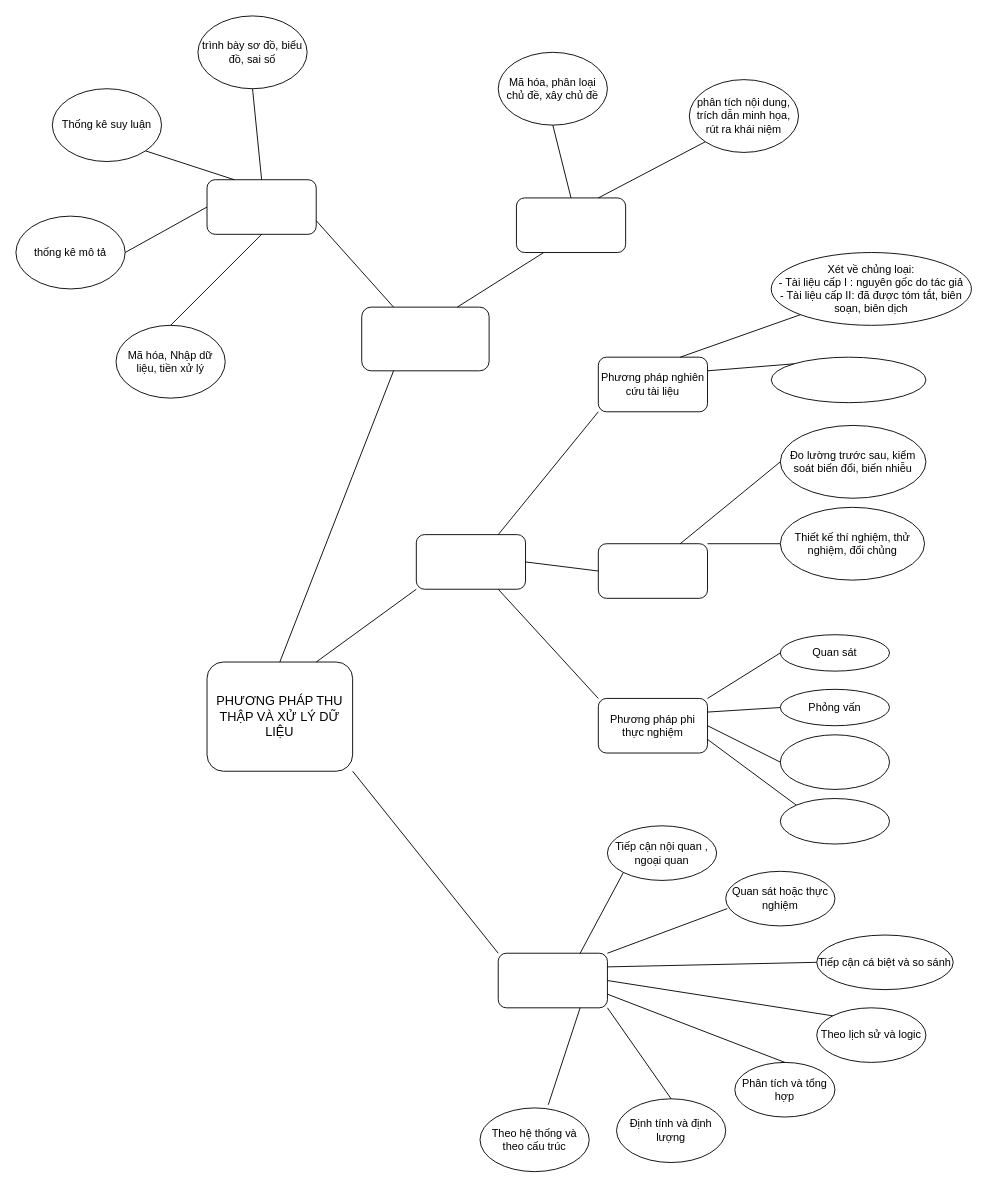
Image size: 987x1188. Some labels were removed from this diagram. The box of each missing label's shape, as (x1, y1, x2, y2) in pixels:
Dữ liệu định lượng: (516, 197, 626, 253)
Dữ liệu định tính: (206, 179, 316, 234)
Hội nghị bàn tròn: (779, 798, 890, 844)
PHƯƠNG PHÁP THU THẬP DỮ LIỆU: (415, 534, 526, 589)
Phương pháp thực nghiệm: (597, 543, 708, 598)
PHƯƠNG PHÁP TIẾP CẬN: (497, 952, 607, 1008)
PHƯƠNG PHÁP XỬ LÝ DỮ LIỆU: (361, 306, 489, 371)
Xét từ giác độ tác giả: (770, 356, 926, 403)
Điều tra bằng bảng hỏi: (779, 734, 890, 789)
